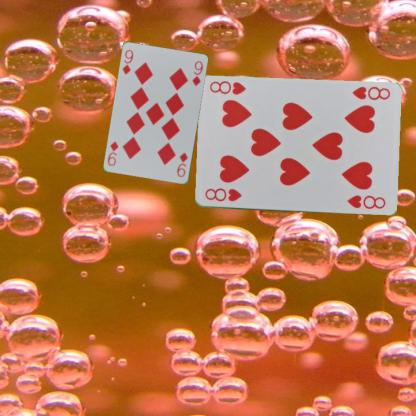8h: (349, 83, 391, 102), (202, 186, 243, 203)
9d: (174, 150, 190, 178), (120, 47, 134, 76)
